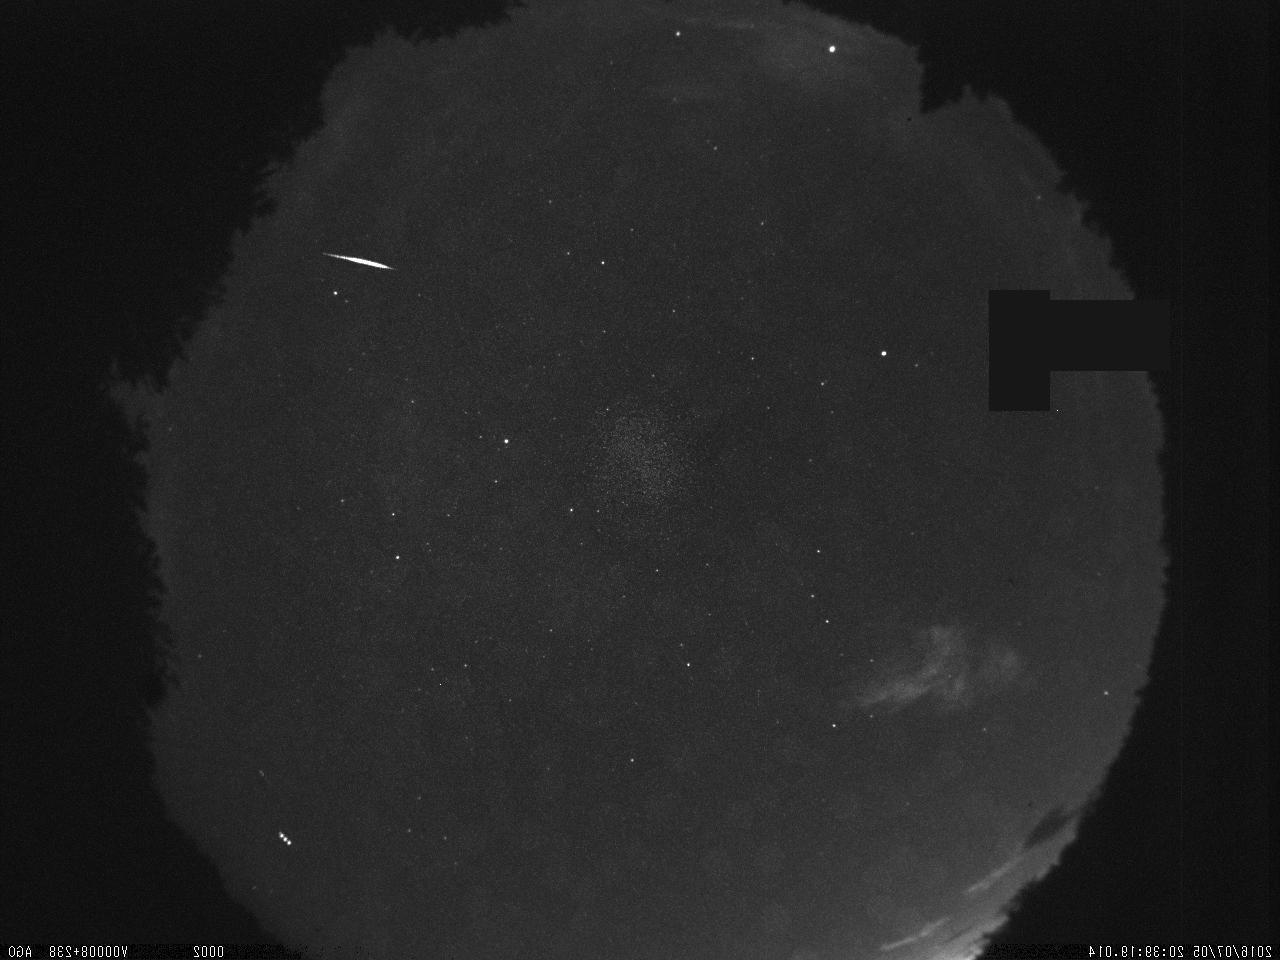meteor: (318, 242, 396, 277)
satelite: (274, 829, 296, 852)
